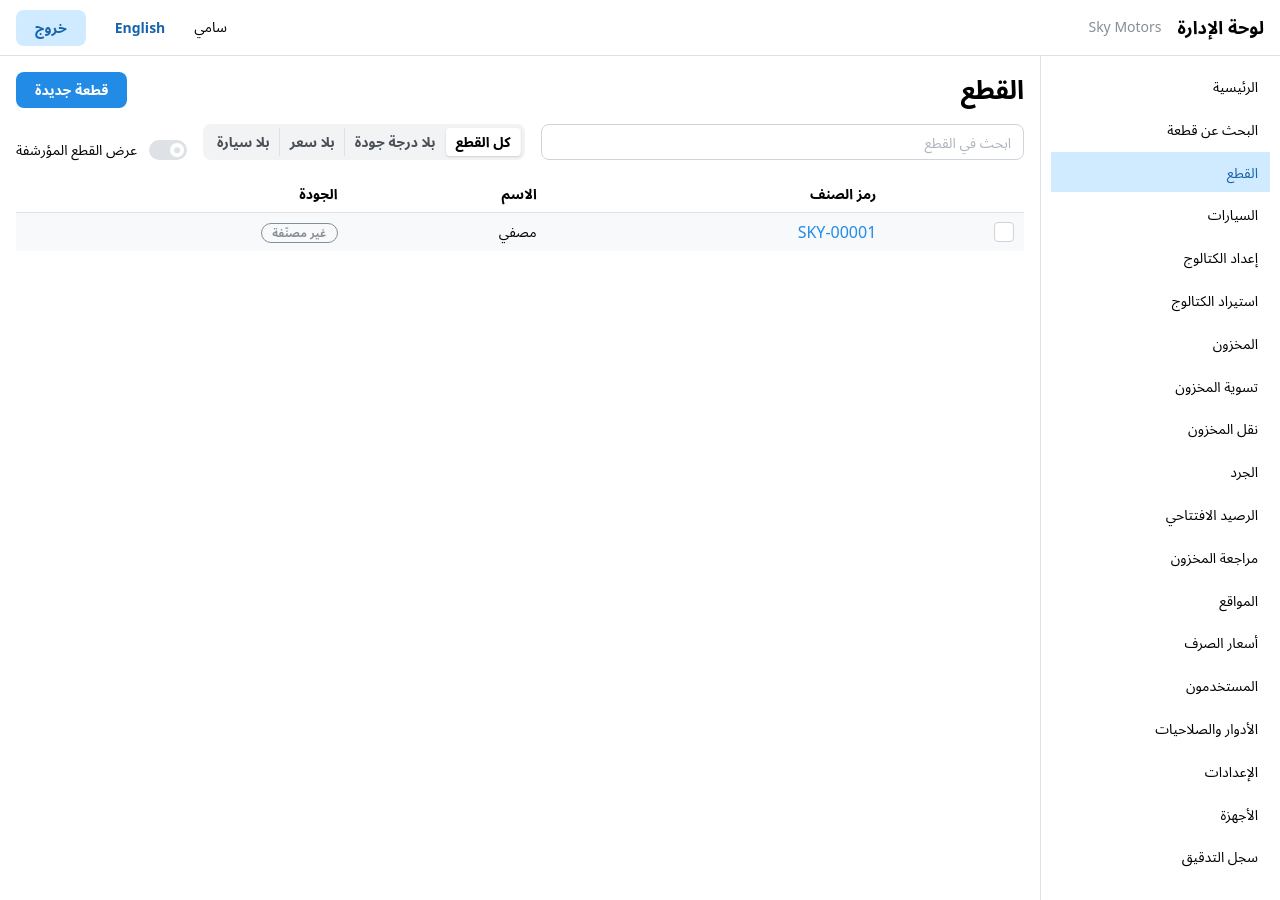
archived parts › can be listed again, so they can be restored
Expected: the link "SKY-00001" is shown, [798,221,876,243]
Expected: the text "SKY-00002" is not shown
Click the switch labelled "عرض القطع المؤرشفة".
click(102, 150)  # box [16,140,187,160]
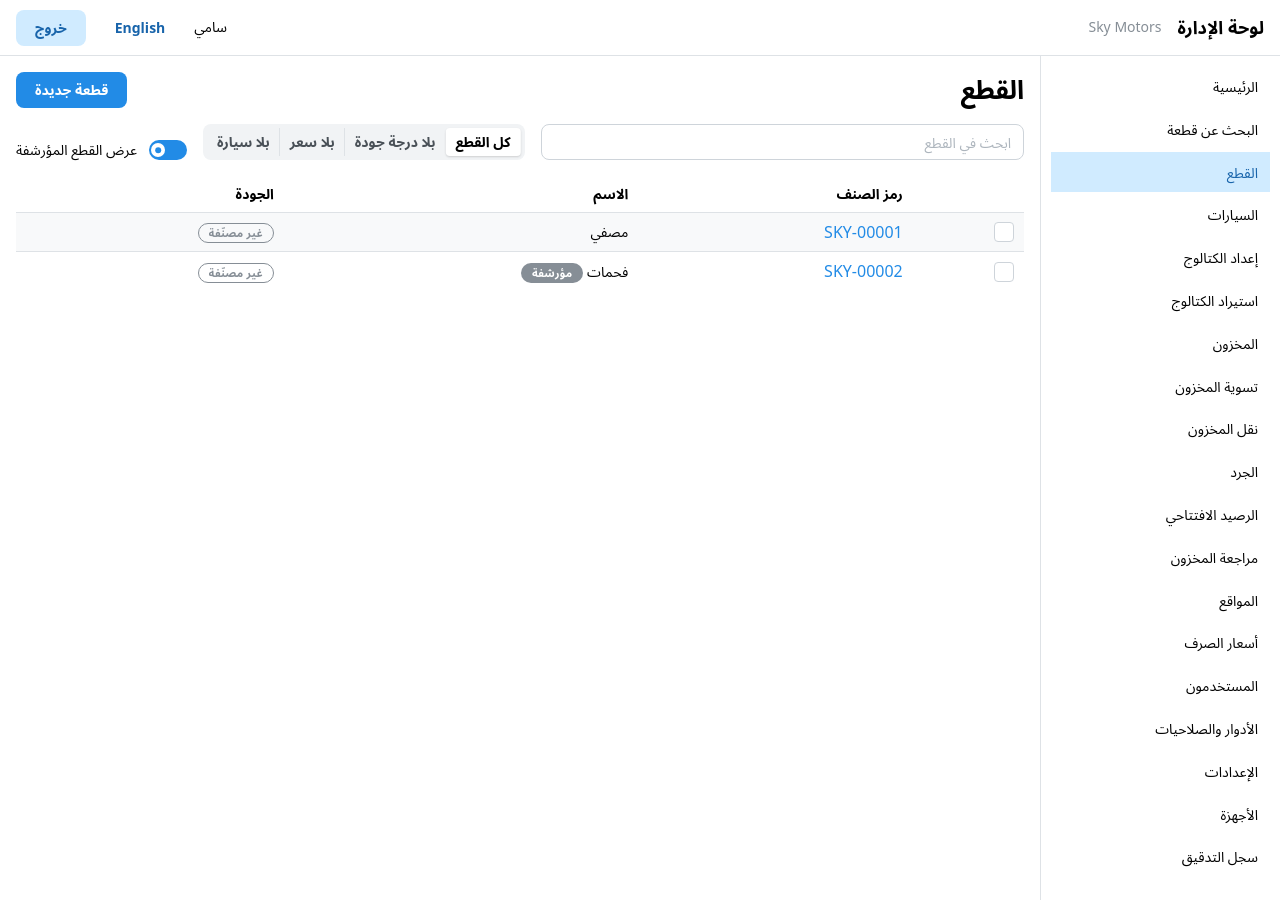
Expected: the text "مؤرشفة" is shown, [532,264,572,282]
